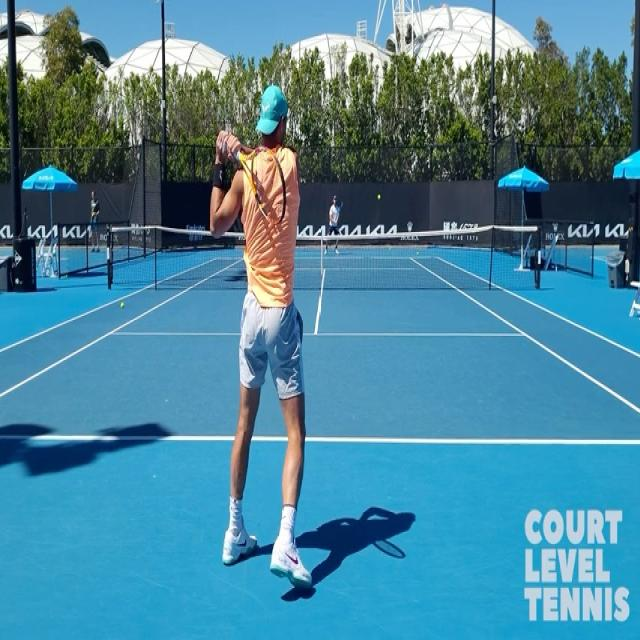backhand-finish: (204, 67, 306, 613)
